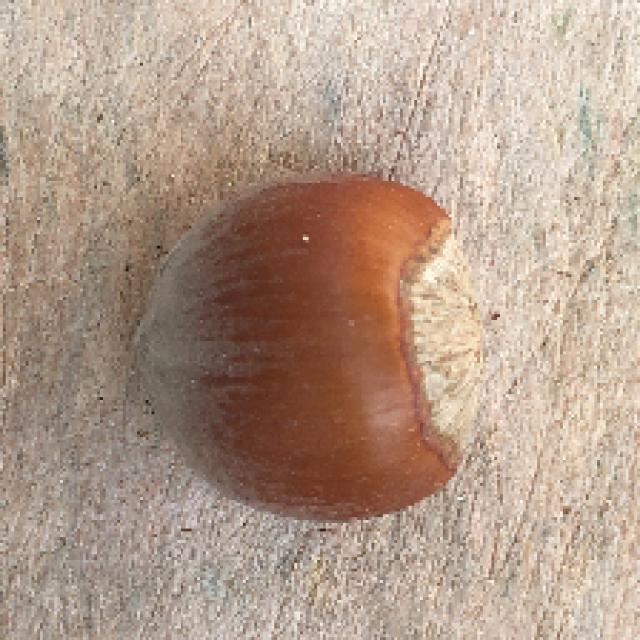qualityHazelnut: (117, 174, 480, 520)
